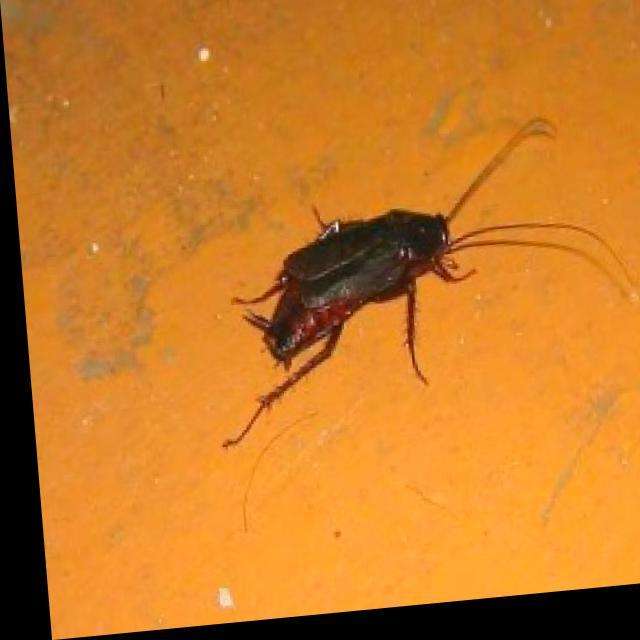cockroach: (218, 113, 526, 431)
